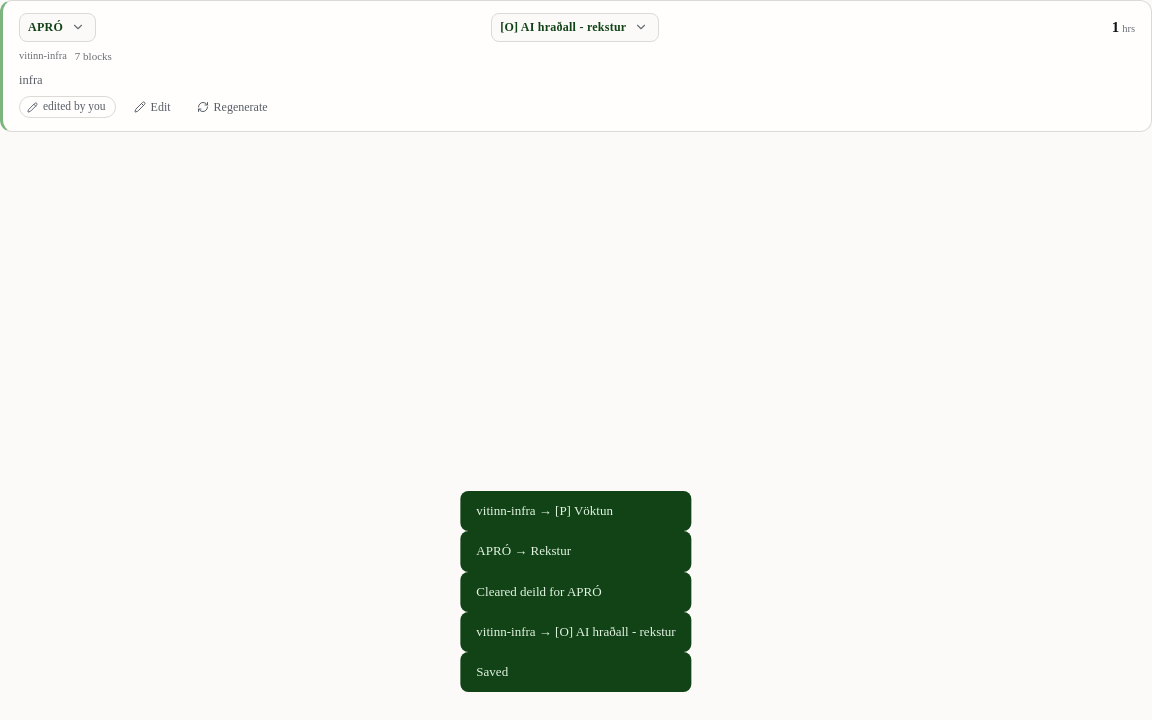
Test: BillingGroup line text (FR-26/FR-31/FR-33/FR-35) › shows the reason in a toast when the job settles failed
The image size is (1152, 720).
Click the button "Regenerate".
click(232, 107)  # box x1=187 y1=95 x2=278 y2=119
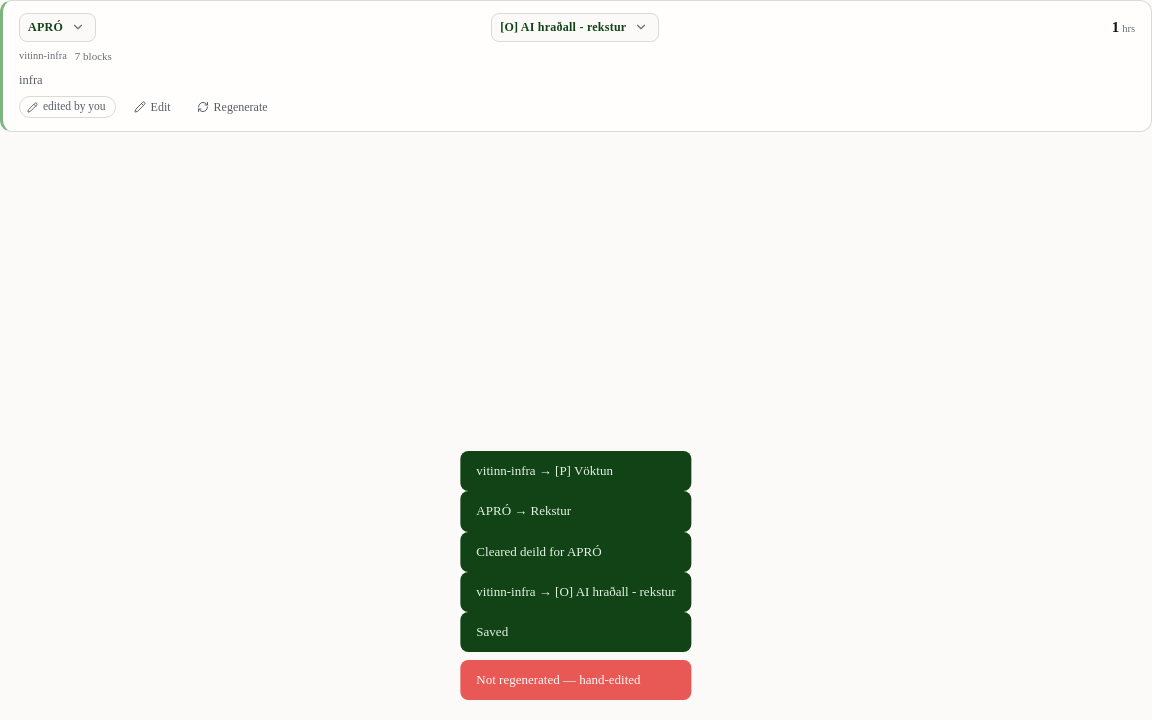
Result: the text "Not regenerated — hand-edited" is shown at x1=460 y1=660 x2=692 y2=700
